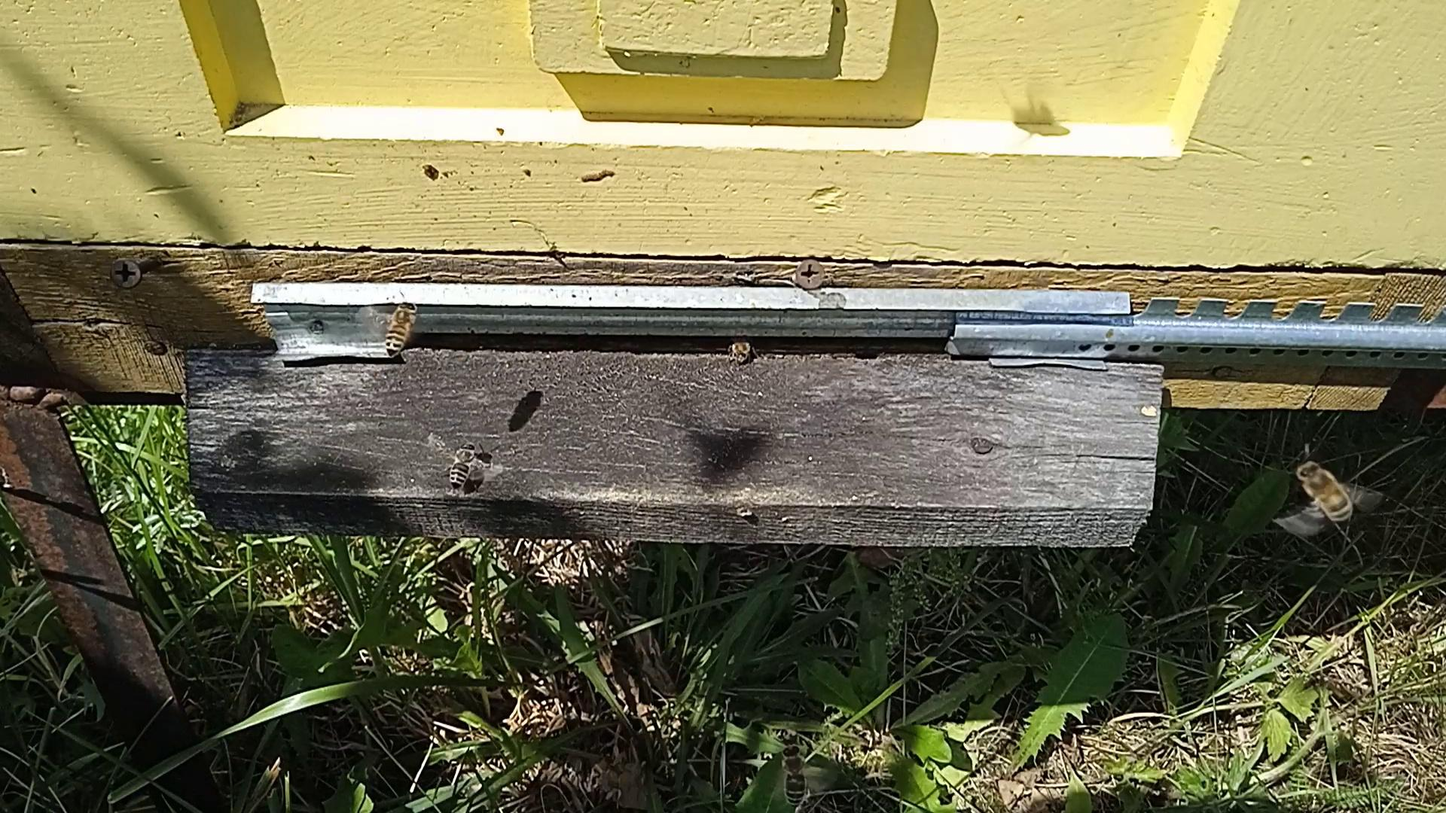worker-bee: (1294, 460, 1355, 524), (384, 301, 420, 354), (779, 744, 807, 806), (447, 441, 481, 488), (726, 333, 755, 366)
